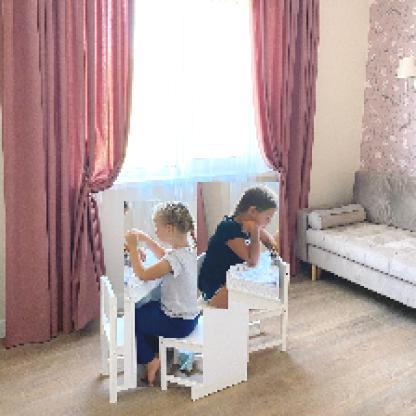child: (126, 202, 206, 389), (198, 183, 281, 311)
